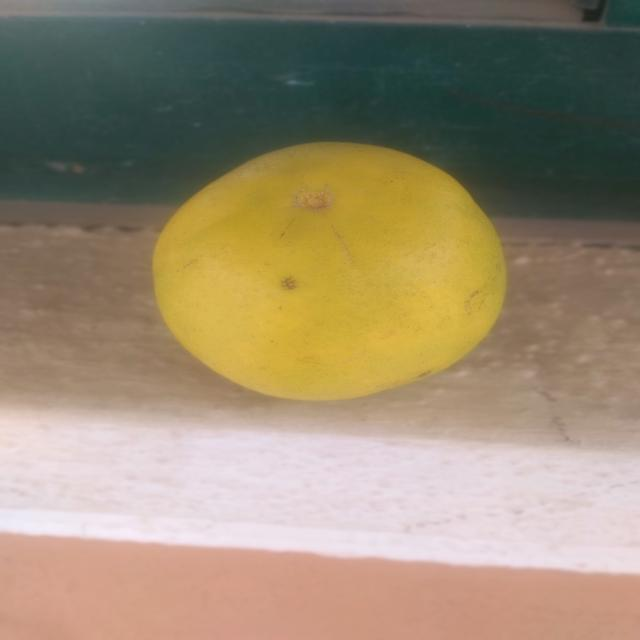Ripe orange: (144, 135, 515, 414)
